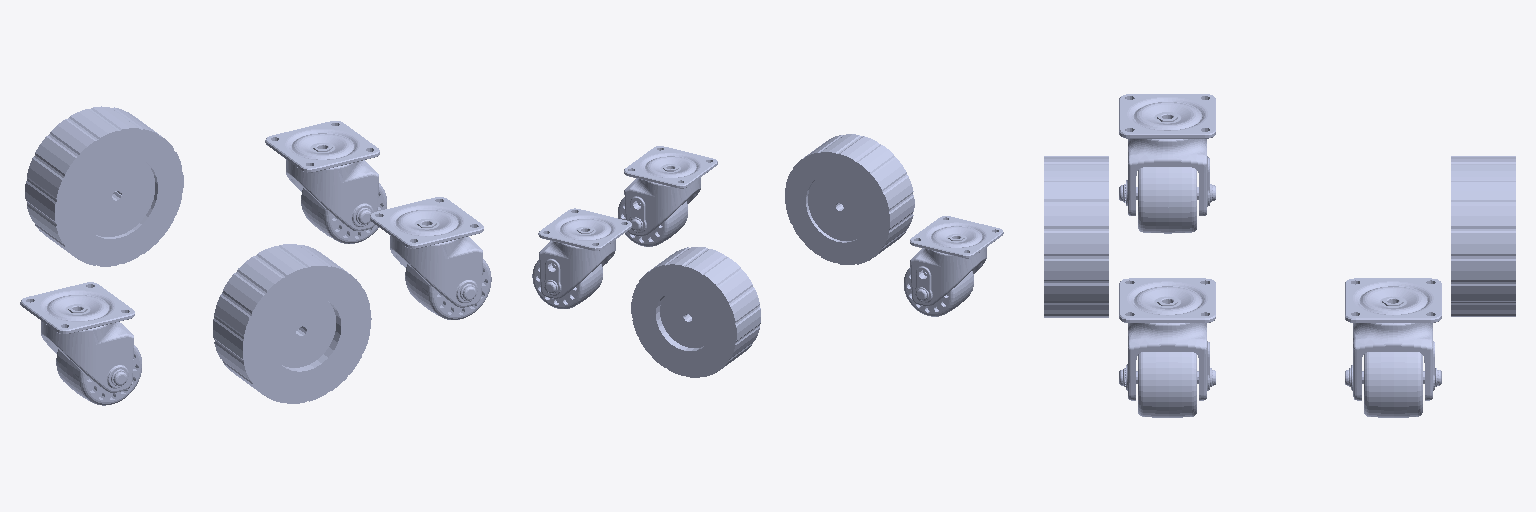
The robot description file, URDF, robot "Test3_1.sldasm":
<?xml version="1.0" encoding="utf-8"?>
<!-- This URDF was automatically created by SolidWorks to URDF Exporter! Originally created by [author] ([email redacted]) 
     Commit Version: 1.6.0-4-g7f85cfe  Build Version: 1.6.7995.38578
     For more information, please see http://wiki.ros.org/sw_urdf_exporter -->
<robot
  name="Test3_1.sldasm">
  <link
    name="base_link">
    <inertial>
      <origin
        xyz="-0.121372683225158 -0.100629241004951 0.295138580463577"
        rpy="0 0 0" />
      <mass
        value="3.8011761006377" />
      <inertia
        ixx="0.0176352531009907"
        ixy="-1.27512936752151E-09"
        ixz="-2.65577996921071E-09"
        iyy="0.0201039824225906"
        iyz="-1.00501553163913E-10"
        izz="0.0334988286101961" />
    </inertial>
    <visual>
      <origin
        xyz="0 0 0"
        rpy="0 0 0" />
      <geometry>
        <mesh
          filename="package://Test3_1.sldasm/meshes/base_link.STL" />
      </geometry>
      <material
        name="">
        <color
          rgba="0.792156862745098 0.819607843137255 0.929411764705882 1" />
      </material>
    </visual>
    <collision>
      <origin
        xyz="0 0 0"
        rpy="0 0 0" />
      <geometry>
        <mesh
          filename="package://Test3_1.sldasm/meshes/base_link.STL" />
      </geometry>
    </collision>
  </link>
  <link
    name="left_wheel_link">
    <inertial>
      <origin
        xyz="0.0798635609178104 0.119337677215708 -0.0015864225772072"
        rpy="0 0 0" />
      <mass
        value="0.408283278953184" />
      <inertia
        ixx="0.000521882462130431"
        ixy="-2.30887008690512E-09"
        ixz="-0.000112983089630465"
        iyy="0.000553873336257016"
        iyz="-3.37697966249079E-07"
        izz="0.000369624335402607" />
    </inertial>
    <visual>
      <origin
        xyz="0 0 0"
        rpy="0 0 0" />
      <geometry>
        <mesh
          filename="package://Test3_1.sldasm/meshes/left_wheel_link.STL" />
      </geometry>
      <material
        name="">
        <color
          rgba="0.792156862745098 0.819607843137255 0.933333333333333 1" />
      </material>
    </visual>
    <collision>
      <origin
        xyz="0 0 0"
        rpy="0 0 0" />
      <geometry>
        <mesh
          filename="package://Test3_1.sldasm/meshes/left_wheel_link.STL" />
      </geometry>
    </collision>
  </link>
  <joint
    name="left_wheel_joint"
    type="fixed">
    <origin
      xyz="-0.217516382426369 -0.0859688487000705 0.213679707210803"
      rpy="0 0 3.14159265358979" />
    <parent
      link="base_link" />
    <child
      link="left_wheel_link" />
    <axis
      xyz="0 0 0" />
  </joint>
  <link
    name="right_wheel_link">
    <inertial>
      <origin
        xyz="0.0798635617075182 0.119337678299122 -0.0015864240180242"
        rpy="0 0 0" />
      <mass
        value="0.408283254322917" />
      <inertia
        ixx="0.000521882439524514"
        ixy="-2.30100967635333E-09"
        ixz="-0.000112983098967625"
        iyy="0.000553873316544929"
        iyz="-3.37708776874209E-07"
        izz="0.000369624324094519" />
    </inertial>
    <visual>
      <origin
        xyz="0 0 0"
        rpy="0 0 0" />
      <geometry>
        <mesh
          filename="package://Test3_1.sldasm/meshes/right_wheel_link.STL" />
      </geometry>
      <material
        name="">
        <color
          rgba="0.792156862745098 0.819607843137255 0.933333333333333 1" />
      </material>
    </visual>
    <collision>
      <origin
        xyz="0 0 0"
        rpy="0 0 0" />
      <geometry>
        <mesh
          filename="package://Test3_1.sldasm/meshes/right_wheel_link.STL" />
      </geometry>
    </collision>
  </link>
  <joint
    name="right_wheel_joint"
    type="fixed">
    <origin
      xyz="-0.217570061254086 0.123698152583394 0.213679707210798"
      rpy="0 0 3.14159265358979" />
    <parent
      link="base_link" />
    <child
      link="right_wheel_link" />
    <axis
      xyz="0 0 0" />
  </joint>
  <link
    name="midl_wheel_link">
    <inertial>
      <origin
        xyz="8.88180099481439E-07 0.0296172785131412 8.32667268468867E-17"
        rpy="0 0 0" />
      <mass
        value="0.968975774829785" />
      <inertia
        ixx="0.00170115560343656"
        ixy="1.82218282057657E-09"
        ixz="1.88439511467893E-18"
        iyy="0.00288276759907122"
        iyz="1.52630998940623E-18"
        izz="0.00170115056996547" />
    </inertial>
    <visual>
      <origin
        xyz="0 0 0"
        rpy="0 0 0" />
      <geometry>
        <mesh
          filename="package://Test3_1.sldasm/meshes/midl_wheel_link.STL" />
      </geometry>
      <material
        name="">
        <color
          rgba="0.792156862745098 0.819607843137255 0.933333333333333 1" />
      </material>
    </visual>
    <collision>
      <origin
        xyz="0 0 0"
        rpy="0 0 0" />
      <geometry>
        <mesh
          filename="package://Test3_1.sldasm/meshes/midl_wheel_link.STL" />
      </geometry>
    </collision>
  </link>
  <joint
    name="midl_wheel_joint"
    type="fixed">
    <origin
      xyz="-0.113702936279781 -0.259690399771941 0.229893812935314"
      rpy="-3.14159265358979 0 0" />
    <parent
      link="base_link" />
    <child
      link="midl_wheel_link" />
    <axis
      xyz="0 0 0" />
  </joint>
  <link
    name="midr_wheel_link">
    <inertial>
      <origin
        xyz="8.88180099481439E-07 -2.77555756156289E-17 0.0296172785131412"
        rpy="0 0 0" />
      <mass
        value="0.968975774829784" />
      <inertia
        ixx="0.00170115560343656"
        ixy="-1.99519415005731E-18"
        ixz="1.82218282863047E-09"
        iyy="0.00170115056996547"
        iyz="-1.27678032021316E-19"
        izz="0.00288276759907123" />
    </inertial>
    <visual>
      <origin
        xyz="0 0 0"
        rpy="0 0 0" />
      <geometry>
        <mesh
          filename="package://Test3_1.sldasm/meshes/midr_wheel_link.STL" />
      </geometry>
      <material
        name="">
        <color
          rgba="0.792156862745098 0.819607843137255 0.933333333333333 1" />
      </material>
    </visual>
    <collision>
      <origin
        xyz="0 0 0"
        rpy="0 0 0" />
      <geometry>
        <mesh
          filename="package://Test3_1.sldasm/meshes/midr_wheel_link.STL" />
      </geometry>
    </collision>
  </link>
  <joint
    name="midr_wheel_joint"
    type="fixed">
    <origin
      xyz="-0.113833461554514 0.0577828002280677 0.229893812935322"
      rpy="1.5707963267949 0 3.14159265358979" />
    <parent
      link="base_link" />
    <child
      link="midr_wheel_link" />
    <axis
      xyz="0 0 0" />
  </joint>
  <link
    name="backl_wheel_link">
    <inertial>
      <origin
        xyz="0.0798635616461957 0.119337678370074 -0.00158642392304489"
        rpy="0 0 0" />
      <mass
        value="0.408283255088615" />
      <inertia
        ixx="0.000521882441685956"
        ixy="-2.29941170441655E-09"
        ixz="-0.000112983098736653"
        iyy="0.000553873316536527"
        iyz="-3.37710391643963E-07"
        izz="0.00036962432362049" />
    </inertial>
    <visual>
      <origin
        xyz="0 0 0"
        rpy="0 0 0" />
      <geometry>
        <mesh
          filename="package://Test3_1.sldasm/meshes/backl_wheel_link.STL" />
      </geometry>
      <material
        name="">
        <color
          rgba="0.792156862745098 0.819607843137255 0.933333333333333 1" />
      </material>
    </visual>
    <collision>
      <origin
        xyz="0 0 0"
        rpy="0 0 0" />
      <geometry>
        <mesh
          filename="package://Test3_1.sldasm/meshes/backl_wheel_link.STL" />
      </geometry>
    </collision>
  </link>
  <joint
    name="backl_wheel_joint"
    type="fixed">
    <origin
      xyz="0.188051276058976 -0.0859853834188957 0.213838552594578"
      rpy="0 0 -3.14159265358979" />
    <parent
      link="base_link" />
    <child
      link="backl_wheel_link" />
    <axis
      xyz="0 0 0" />
  </joint>
  <link
    name="backr_wheel_link">
    <inertial>
      <origin
        xyz="0.0798635616462104 0.119337678370553 -0.00158642392353636"
        rpy="0 0 0" />
      <mass
        value="0.408283255095254" />
      <inertia
        ixx="0.000521882441900862"
        ixy="-2.29940974749141E-09"
        ixz="-0.000112983098639424"
        iyy="0.000553873316806166"
        iyz="-3.37710384787923E-07"
        izz="0.000369624323687469" />
    </inertial>
    <visual>
      <origin
        xyz="0 0 0"
        rpy="0 0 0" />
      <geometry>
        <mesh
          filename="package://Test3_1.sldasm/meshes/backr_wheel_link.STL" />
      </geometry>
      <material
        name="">
        <color
          rgba="0.792156862745098 0.819607843137255 0.933333333333333 1" />
      </material>
    </visual>
    <collision>
      <origin
        xyz="0 0 0"
        rpy="0 0 0" />
      <geometry>
        <mesh
          filename="package://Test3_1.sldasm/meshes/backr_wheel_link.STL" />
      </geometry>
    </collision>
  </link>
  <joint
    name="backr_wheel_joint"
    type="fixed">
    <origin
      xyz="0.188009915232328 0.123604189213359 0.213838552594581"
      rpy="0 0 -3.14159265358979" />
    <parent
      link="base_link" />
    <child
      link="backr_wheel_link" />
    <axis
      xyz="0 0 0" />
  </joint>
</robot>

--- Render facts (derived) ---
Views: 3 orthographic renders of the robot side by side, from view 1: azimuth 30°, elevation 25°; view 2: azimuth 150°, elevation 25°; view 3: azimuth 270°, elevation 25°.
Robot: Test3_1.sldasm — 7 links, 6 joints (6 fixed); root link base_link; default pose: all joints at 0.
Visible links, largest first — view 1: midr_wheel_link, midl_wheel_link, left_wheel_link, backl_wheel_link, backr_wheel_link; view 2: midr_wheel_link, midl_wheel_link, backr_wheel_link, left_wheel_link, backl_wheel_link; view 3: backr_wheel_link, backl_wheel_link, left_wheel_link, midl_wheel_link, midr_wheel_link.
Link boxes in pixels (x1,y1,x2,y2): midr_wheel_link: [25, 106, 183, 266]; midl_wheel_link: [213, 244, 371, 403]; left_wheel_link: [20, 282, 141, 405]; backl_wheel_link: [370, 197, 491, 319]; backr_wheel_link: [265, 121, 386, 243]; midr_wheel_link: [631, 247, 760, 377]; midl_wheel_link: [785, 134, 914, 264]; backr_wheel_link: [532, 208, 631, 308]; left_wheel_link: [904, 216, 1003, 316]; backl_wheel_link: [618, 146, 717, 246]; backr_wheel_link: [1345, 278, 1441, 417]; backl_wheel_link: [1119, 278, 1215, 417]; left_wheel_link: [1119, 94, 1215, 233]; midl_wheel_link: [1044, 156, 1108, 317]; midr_wheel_link: [1451, 156, 1515, 316].
Bounding box of the posed robot: 0.513 × 0.4375 × 0.1499 m (x, y, z).
5 mesh visuals loaded from 7 distinct referenced files (5 binary STL); not drawn: 2 (reference not matched to a file when rendering).